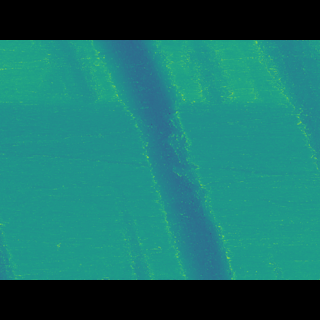Loch: (35, 68, 242, 250), (250, 69, 320, 168)
